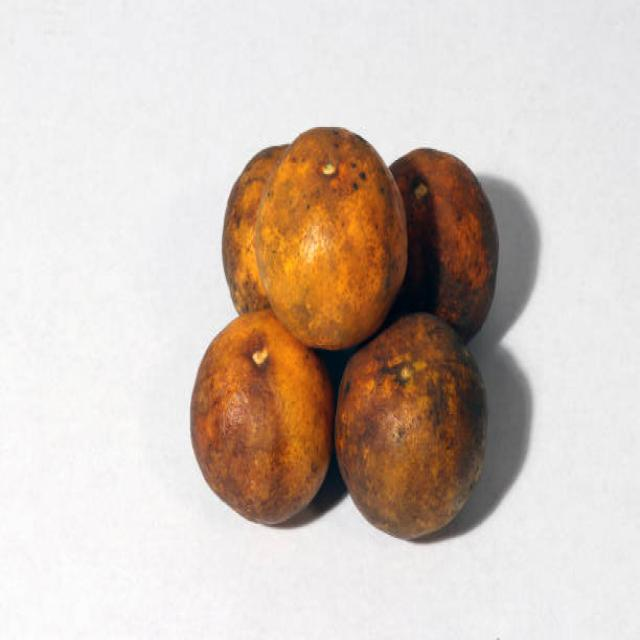overripe: (334, 307, 492, 542), (255, 122, 408, 349), (182, 310, 334, 532)
